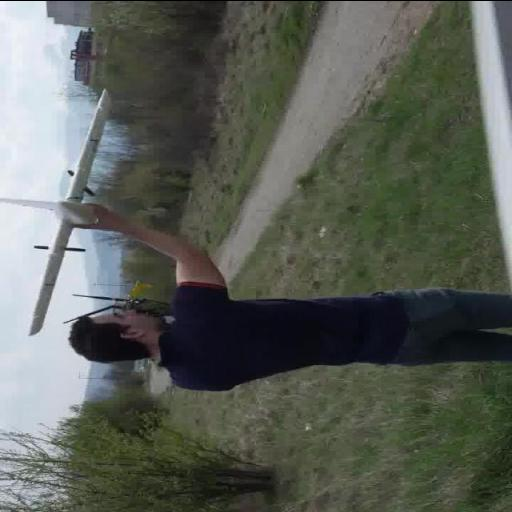uav: (1, 84, 138, 336)
